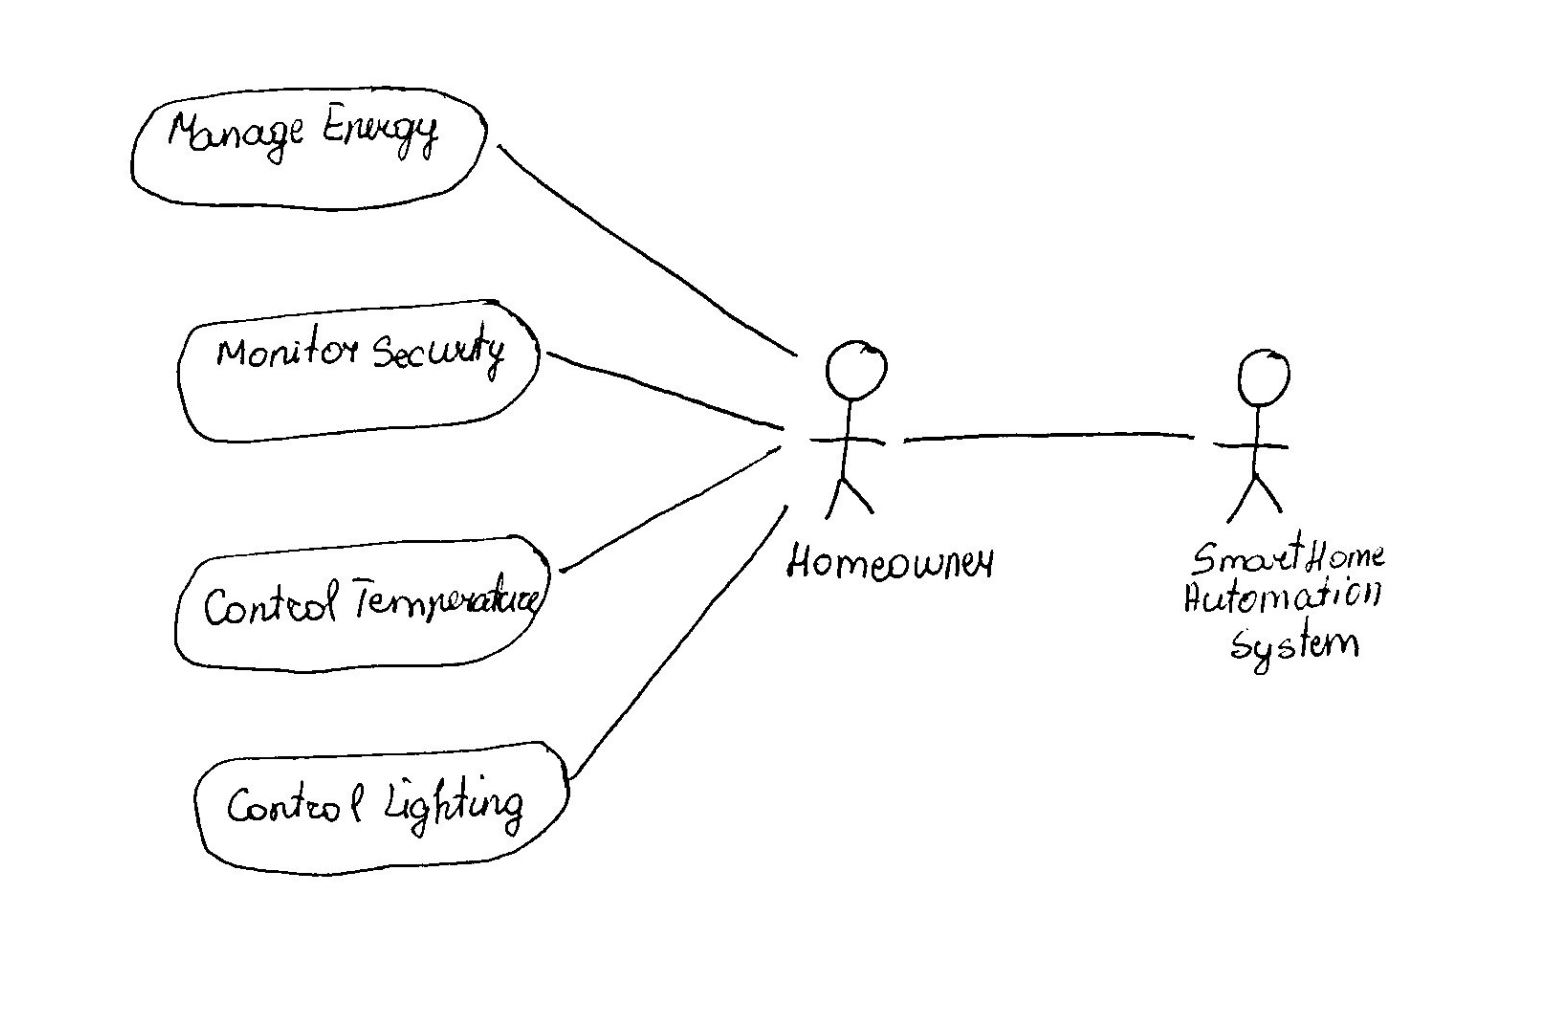actor: (1204, 337, 1302, 527), (806, 335, 890, 519)
association: (498, 138, 797, 363), (573, 500, 792, 779), (560, 441, 782, 574), (541, 343, 789, 430), (898, 414, 1196, 464)
text: (1179, 531, 1398, 670), (224, 773, 534, 841), (202, 570, 542, 628), (168, 108, 456, 164), (215, 329, 512, 382), (785, 530, 1005, 585)
use_case: (175, 295, 543, 446), (171, 533, 553, 674), (193, 739, 571, 878), (127, 83, 488, 212)
